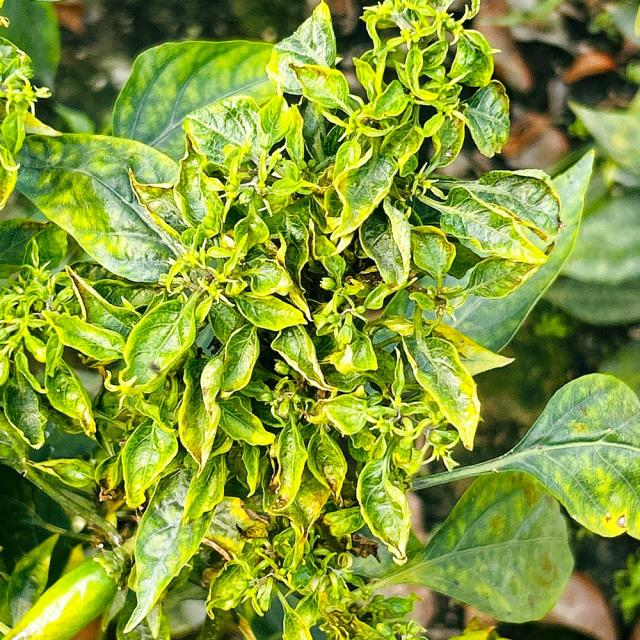Chilli_Leaf_Curl: (0, 0, 638, 638), (350, 371, 639, 624), (351, 468, 575, 624), (13, 131, 187, 284)
